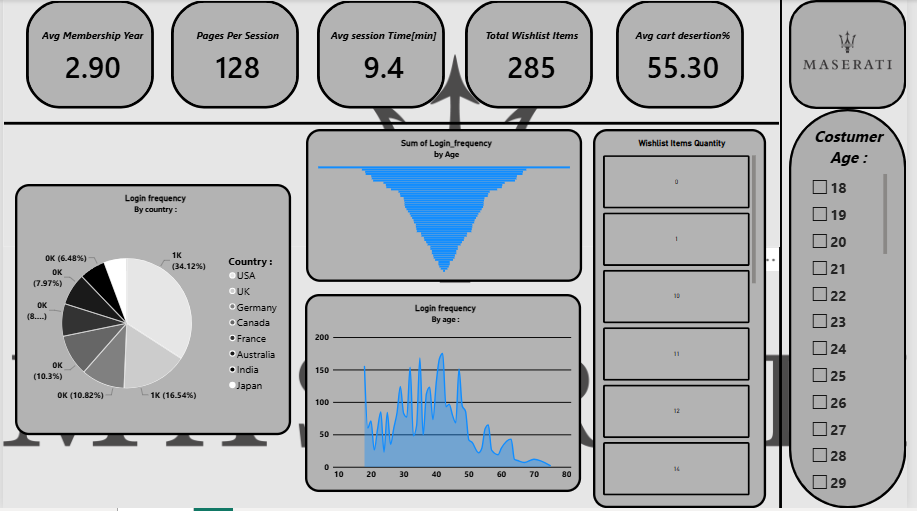

This screenshot's page, from the dashboard's own definition file:
{"tool":"powerbi","page":{"name":"Page 1","canvas":[1920,1080],"ordinal":0},"visuals":[{"type":"shape","box":[1670.6,0,249.4,231.8],"z":0},{"type":"image","box":[1700.8,0,189,211.7],"z":1000},{"type":"shape","box":[1509.3,0,287.2,1080.9],"z":2000},{"type":"shape","box":[1670.6,231.8,249.4,849.1],"z":3000},{"type":"cardVisual","fields":{"Data":["Avg(Costumer record.Membership_year)"]},"box":[47.9,0,272.1,231.8],"z":4000},{"type":"cardVisual","fields":{"Data":["Count(Costumer record.Pages_per_session)"]},"box":[357.8,0,272.1,231.8],"z":5000},{"type":"cardVisual","fields":{"Data":["Max(Costumer record.Session_duration_avg)"]},"box":[667.7,0,272.1,231.8],"z":6000},{"type":"cardVisual","fields":{"Data":["CountNonNull(Costumer record.Wishlist_items)"]},"box":[982.7,0,272.1,231.8],"z":7000},{"type":"cardVisual","fields":{"Data":["Avg(Costumer record.Cart_abandonment_rate %)"]},"box":[1302.7,0,272.1,231.8],"z":8000},{"type":"slicer","title":"Costumer Age :","fields":{"Values":["Costumer record.Age "]},"box":[1713.4,267.1,166.3,778.6],"z":9000},{"type":"shape","box":[0,0,1652.9,524.1],"z":10000},{"type":"pieChart","title":"Login frequency ","fields":{"Category":["Costumer record.Country "],"Y":["Sum(Costumer record.Login_frequency )"]},"box":[25.2,390.6,587.1,534.2],"z":11000},{"type":"areaChart","title":"Login frequency ","fields":{"Category":["Costumer record.Age "],"Y":["Sum(Costumer record.Login_frequency )"]},"box":[642.5,624.9,587.1,420.8],"z":12000},{"type":"funnel","fields":{"Category":["Costumer record.Age "],"Y":["Sum(Costumer record.Login_frequency )"]},"box":[645,274.6,587.1,325],"z":13000},{"type":"advancedSlicerVisual","fields":{"Values":["Costumer record.Wishlist_items"]},"box":[1254.8,274.6,367.9,806.3],"z":14000}]}

Visuals, with their boxes in screenshot pixels (x1, y1, x2, y2), scaled from the page's 1920x1080 canvas onto the 917x511 screenshot:
shape: rect(798, 0, 916, 110)
image: rect(812, 0, 903, 100)
shape: rect(721, 0, 858, 510)
shape: rect(798, 110, 916, 510)
cardVisual - Avg(Costumer record.Membership_year): rect(23, 0, 153, 110)
cardVisual - Count(Costumer record.Pages_per_session): rect(171, 0, 301, 110)
cardVisual - Max(Costumer record.Session_duration_avg): rect(319, 0, 449, 110)
cardVisual - CountNonNull(Costumer record.Wishlist_items): rect(469, 0, 599, 110)
cardVisual - Avg(Costumer record.Cart_abandonment_rate %): rect(622, 0, 752, 110)
"Costumer Age :" slicer: rect(818, 126, 898, 495)
shape: rect(0, 0, 789, 248)
"Login frequency " pieChart: rect(12, 185, 292, 438)
"Login frequency " areaChart: rect(307, 296, 587, 495)
funnel - Costumer record.Age  x Sum(Costumer record.Login_frequency ): rect(308, 130, 588, 284)
advancedSlicerVisual - Costumer record.Wishlist_items: rect(599, 130, 775, 510)
